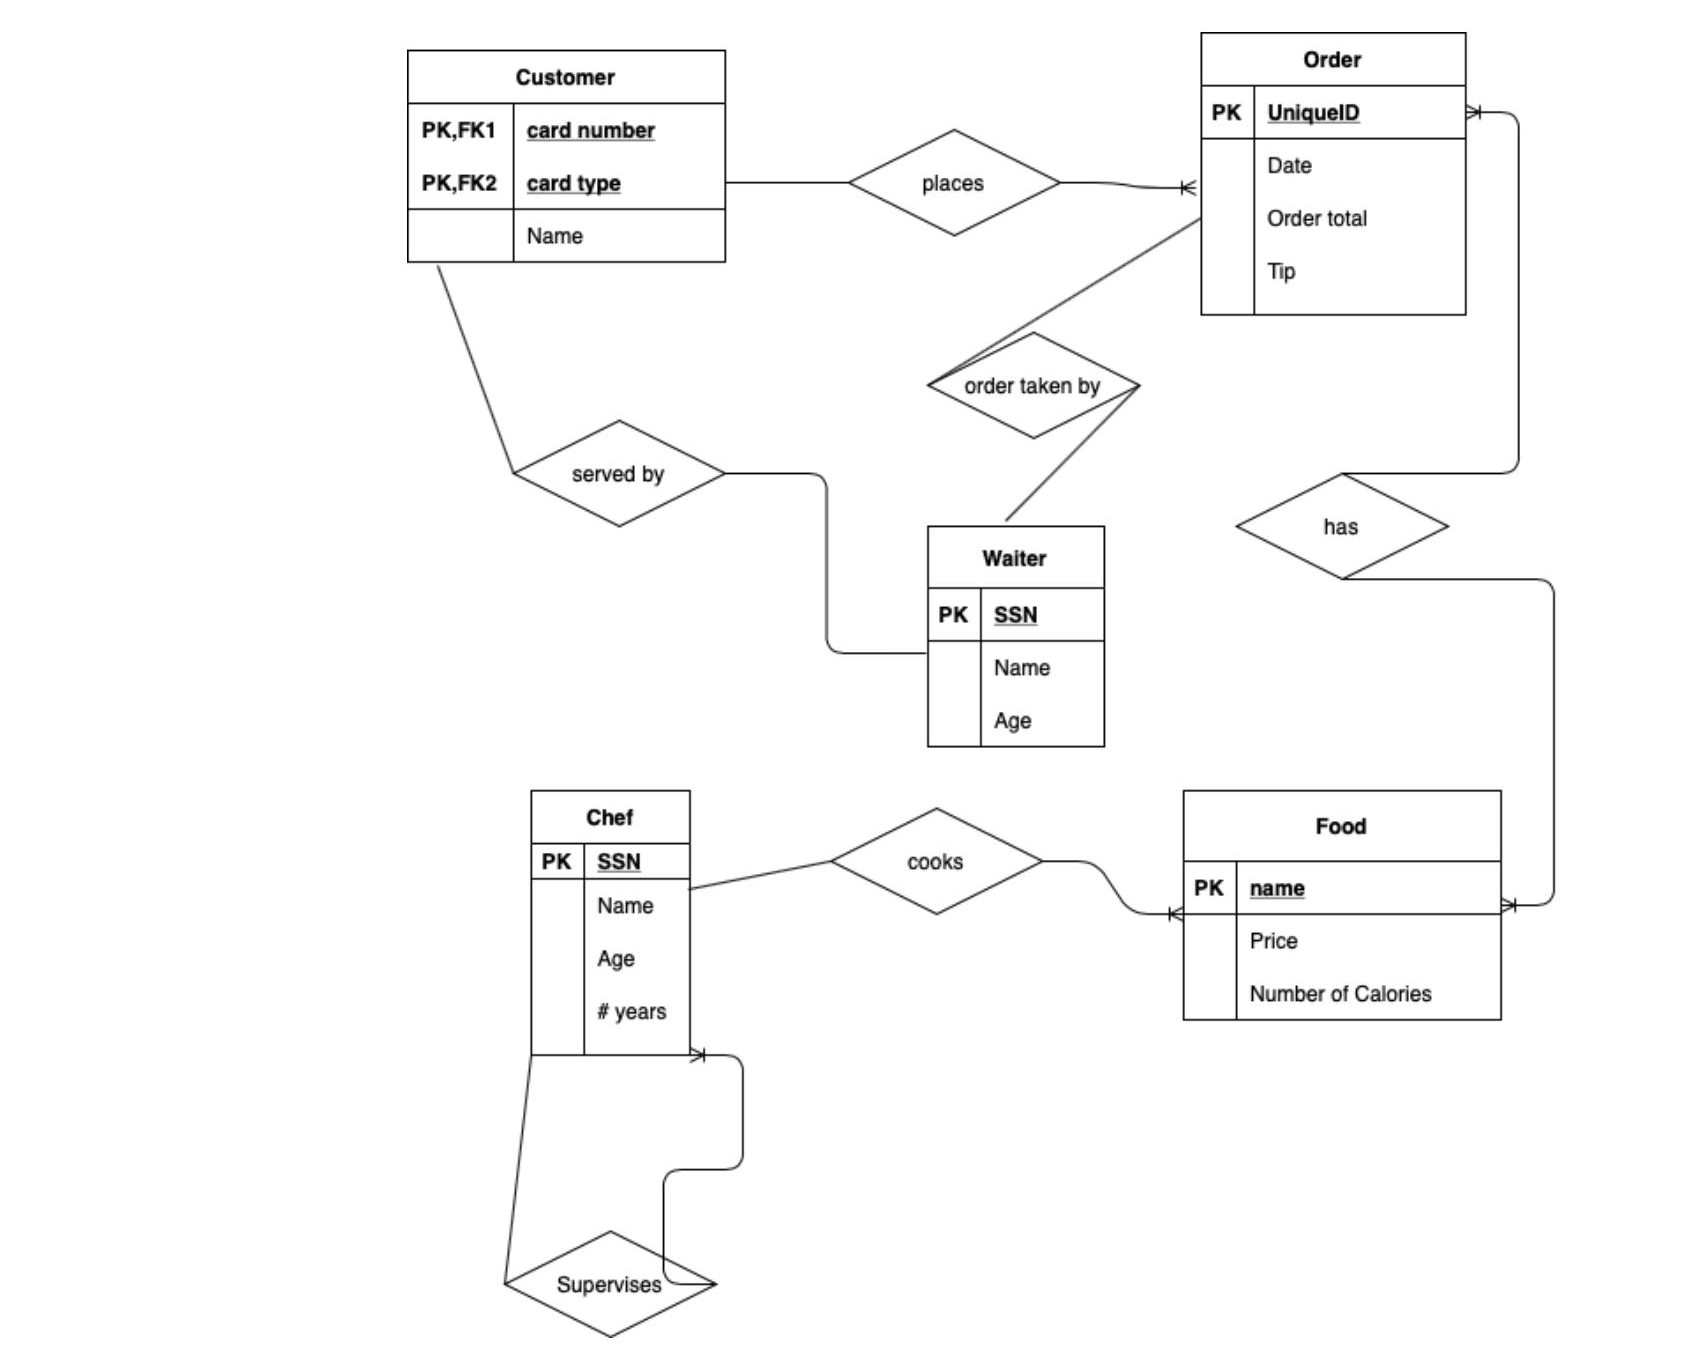Entity: (1197, 26, 1472, 322), (1179, 788, 1505, 1027), (401, 43, 732, 268), (525, 783, 695, 1059), (923, 524, 1109, 749)
Relationship: (1235, 473, 1452, 584), (831, 810, 1045, 919), (849, 130, 1062, 236), (514, 420, 725, 525), (509, 1232, 714, 1340), (931, 333, 1134, 440)
